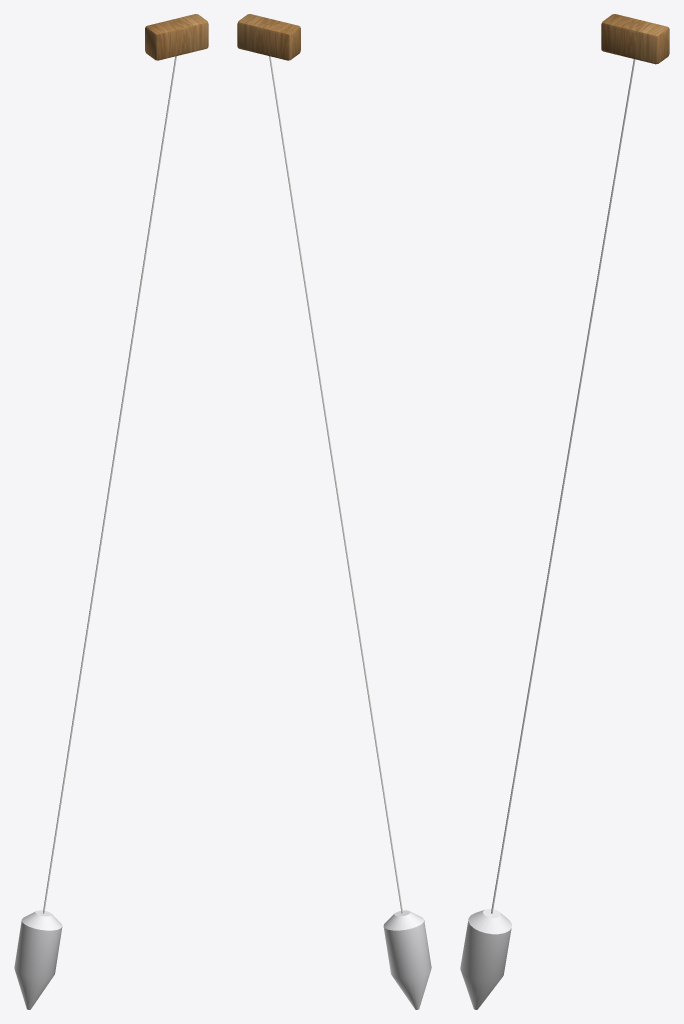
The model's file is EQP-MAO-008_anim.glb.
3 renders of one model, left to right at view 1: azimuth 30°, elevation 25°; view 2: azimuth 150°, elevation 25°; view 3: azimuth 330°, elevation 25°, orthographic. The views are drawn at different scales.
Visible parts, largest first — view 1: EQP-MAO-008_anim0, EQP-MAO-008_anim1; view 2: EQP-MAO-008_anim0, EQP-MAO-008_anim1; view 3: EQP-MAO-008_anim0, EQP-MAO-008_anim1.
Part boxes in pixels (box(x1,y1,x2,y2)): EQP-MAO-008_anim0: box(14, 56, 176, 1009); EQP-MAO-008_anim1: box(145, 14, 208, 60); EQP-MAO-008_anim0: box(269, 56, 431, 1009); EQP-MAO-008_anim1: box(237, 14, 300, 60); EQP-MAO-008_anim0: box(460, 59, 635, 1009); EQP-MAO-008_anim1: box(601, 14, 669, 64).
Bounding box in the file's own units: 0.2089 × 1.02 × 0.04.
3 materials, 1 textured.
